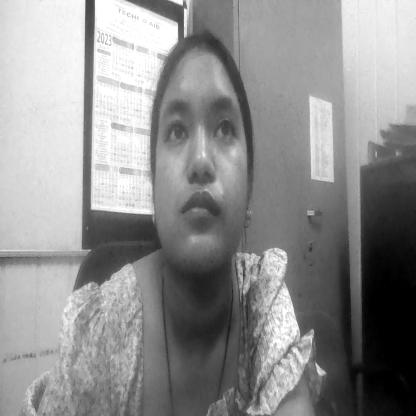Distracted: (160, 60, 246, 248)
